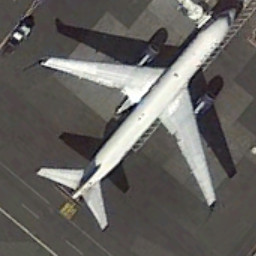Airplane: (32, 4, 241, 235)
